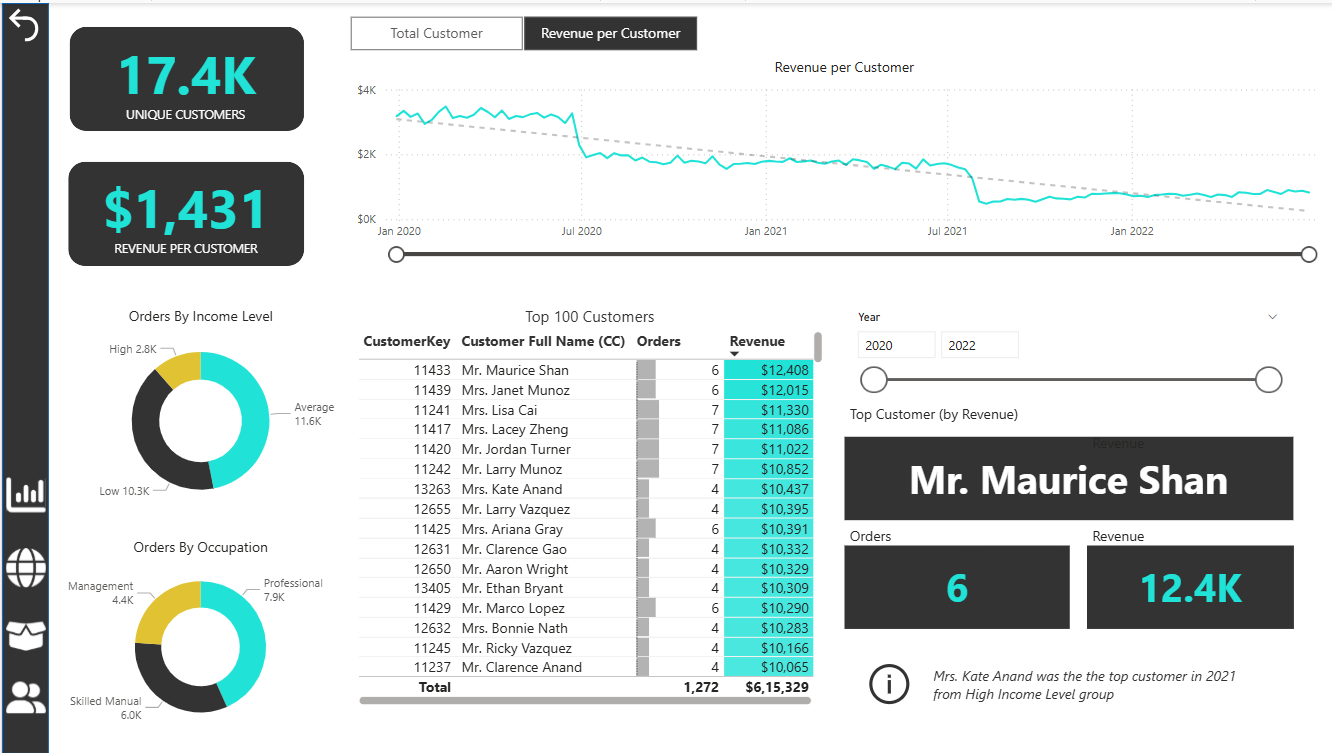

This screenshot's page, from the dashboard's own definition file:
{"tool":"powerbi","page":{"name":"Customer Details","canvas":[1280,720],"ordinal":3},"visuals":[{"type":"shape","box":[0,0,45,720],"z":0},{"type":"shape","box":[64.2,23.2,225,100],"z":1000},{"type":"actionButton","box":[0.3,502.7,46,76],"z":1000,"group":"g1"},{"type":"shape","box":[63.6,152.8,226.2,100],"z":2000},{"type":"actionButton","box":[0,636,46,58],"z":2000,"group":"g1"},{"type":"actionButton","box":[0,578,46,58],"z":3000,"group":"g1"},{"type":"card","fields":{"Values":["Measure Table.Average Revenue per Customer"]},"box":[63.7,152.4,226,100],"z":3000},{"type":"actionButton","box":[0.3,430,46,82],"z":4000,"group":"g1"},{"type":"card","fields":{"Values":["Measure Table.Total Customer"]},"box":[62.7,24,228,100],"z":4000},{"type":"lineChart","fields":{"Y":["Measure Table.Average Revenue per Customer"],"Category":["Calendar Lookup.Date Hierarchy.Start of Year","Calendar Lookup.Date Hierarchy.Start of Month","Calendar Lookup.Date Hierarchy.Start of Week","Calendar Lookup.Date Hierarchy.Date"]},"box":[336,52,944,200],"z":5000},{"type":"donutChart","title":"Orders By Income Level","fields":{"Y":["Measure Table.Total Orders"],"Category":["Customer Lookup.Income Level"]},"box":[46,290,290,204],"z":6000},{"type":"donutChart","title":"Orders By Occupation","fields":{"Y":["Measure Table.Total Orders"],"Category":["Customer Lookup.Occupation"]},"box":[46,512,290,194],"z":7000},{"type":"tableEx","title":"Top 100 Customers","fields":{"Values":["Customer Lookup.CustomerKey","Customer Lookup.Customer Full Name (CC)","Measure Table.Total Orders","Measure Table.Total Revenue"]},"box":[336,290,456,388],"z":8000},{"type":"card","fields":{"Values":["Measure Table.Full Name (Customer Details)"]},"box":[808,416,430,80],"z":9000},{"type":"card","fields":{"Values":["Measure Table.Total Orders (Customer Details)"]},"box":[808,520,216,80],"z":10000},{"type":"card","fields":{"Values":["Measure Table.Total Revenue (Customer Details)"]},"box":[1040,520,198,80],"z":11000},{"type":"textbox","box":[808,380,216,36],"z":12000},{"type":"textbox","box":[808,496,216,36],"z":13000},{"type":"textbox","box":[1040,408,216,36],"z":14000},{"type":"slicer","fields":{"Values":["Calendar Lookup.Year"]},"box":[808,290,428,90],"z":15000},{"type":"actionButton","box":[826,628,382,50],"z":16000},{"type":"textbox","box":[1040,496,216,36],"z":17000},{"type":"actionButton","box":[10,10,46,42],"z":18000},{"type":"group","id":"g1","title":"Navigation Buttons","box":[0,430,46,264],"z":19000},{"type":"slicer","fields":{"Values":["Customer Metric Selection.Customer Metric Selection"]},"box":[308,6,382,46],"z":20000}]}

Visuals, with their boxes on the page's 1280x720 design canvas (x1, y1, x2, y2). These are canvas units, not pixel positions in the 1332x753 screenshot, which may show the page scaled, cropped or inside an application window:
shape: x1=0, y1=0, x2=45, y2=720
shape: x1=64, y1=23, x2=289, y2=123
actionButton: x1=0, y1=503, x2=46, y2=579
shape: x1=64, y1=153, x2=290, y2=253
actionButton: x1=0, y1=636, x2=46, y2=694
actionButton: x1=0, y1=578, x2=46, y2=636
card - Measure Table.Average Revenue per Customer: x1=64, y1=152, x2=290, y2=252
actionButton: x1=0, y1=430, x2=46, y2=512
card - Measure Table.Total Customer: x1=63, y1=24, x2=291, y2=124
lineChart - Measure Table.Average Revenue per Customer x Calendar Lookup.Date Hierarchy.Start of Year: x1=336, y1=52, x2=1280, y2=252
"Orders By Income Level" donutChart: x1=46, y1=290, x2=336, y2=494
"Orders By Occupation" donutChart: x1=46, y1=512, x2=336, y2=706
"Top 100 Customers" tableEx: x1=336, y1=290, x2=792, y2=678
card - Measure Table.Full Name (Customer Details): x1=808, y1=416, x2=1238, y2=496
card - Measure Table.Total Orders (Customer Details): x1=808, y1=520, x2=1024, y2=600
card - Measure Table.Total Revenue (Customer Details): x1=1040, y1=520, x2=1238, y2=600
textbox: x1=808, y1=380, x2=1024, y2=416
textbox: x1=808, y1=496, x2=1024, y2=532
textbox: x1=1040, y1=408, x2=1256, y2=444
slicer - Calendar Lookup.Year: x1=808, y1=290, x2=1236, y2=380
actionButton: x1=826, y1=628, x2=1208, y2=678
textbox: x1=1040, y1=496, x2=1256, y2=532
actionButton: x1=10, y1=10, x2=56, y2=52
"Navigation Buttons" group: x1=0, y1=430, x2=46, y2=694
slicer - Customer Metric Selection.Customer Metric Selection: x1=308, y1=6, x2=690, y2=52
